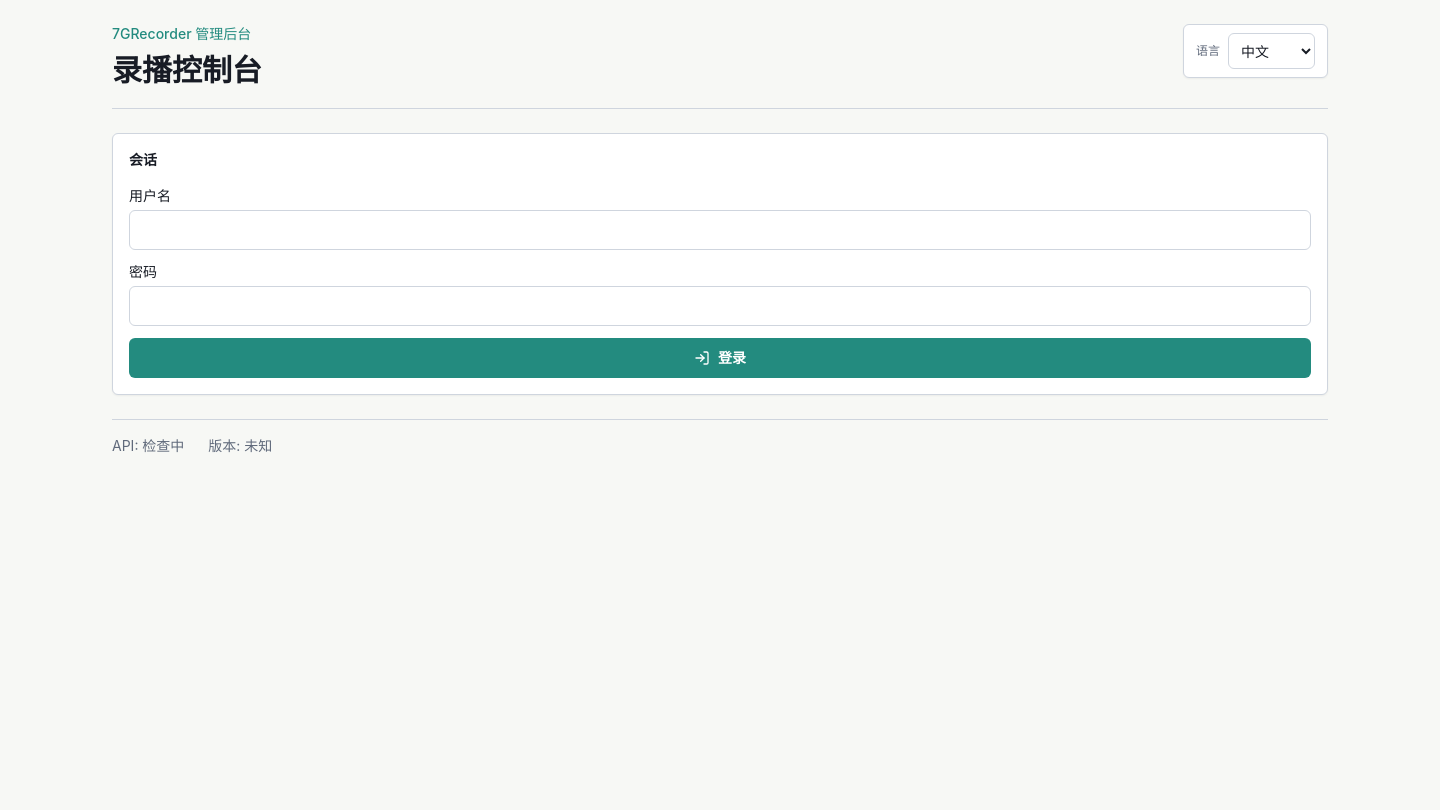
Scenario: AdminDashboard › renders recording start time as its own China-time column
Step 1. Select "English" in the dropdown → (1272, 51), box [1228,33,1315,69]
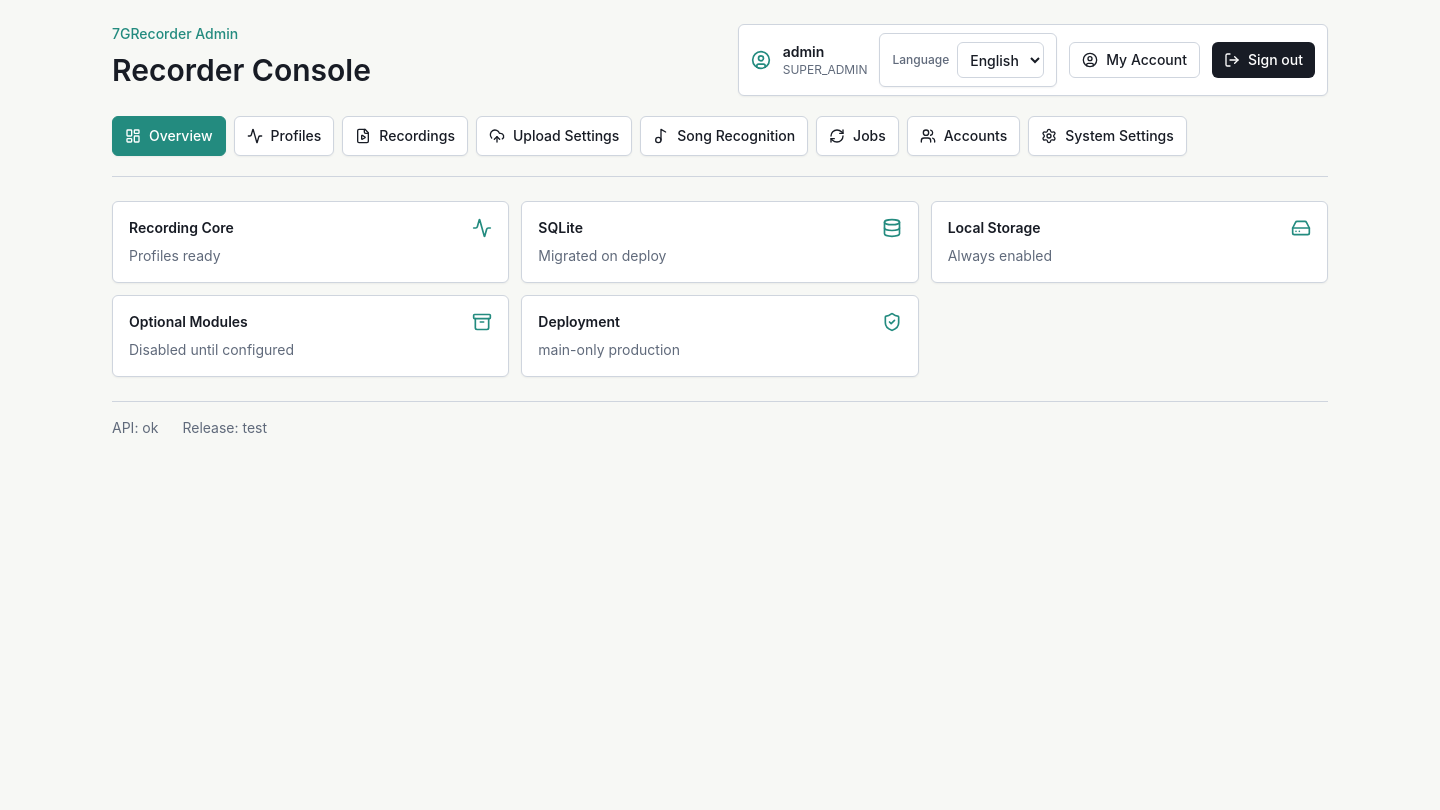
Result: the heading "Recorder Console" is shown at [112,52,371,88]
Step 2. Click the button "Recordings" → (405, 136), box [342,116,468,156]
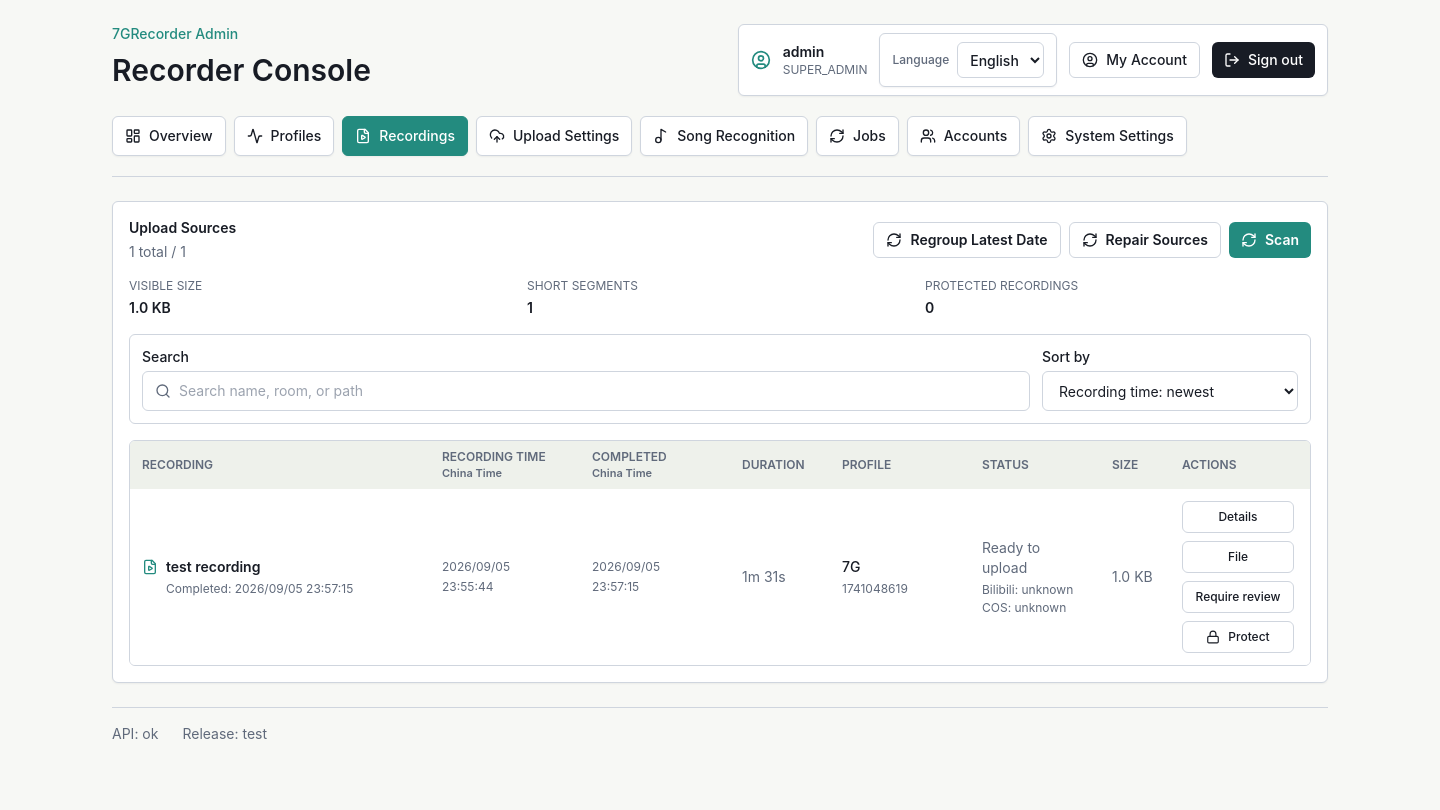
Result: the text "Recording Time" is shown at [442,449,546,465]
Result: the text "Completed" is shown at [592,449,667,465]
Result: the text "Duration" is shown at [742,457,805,473]
